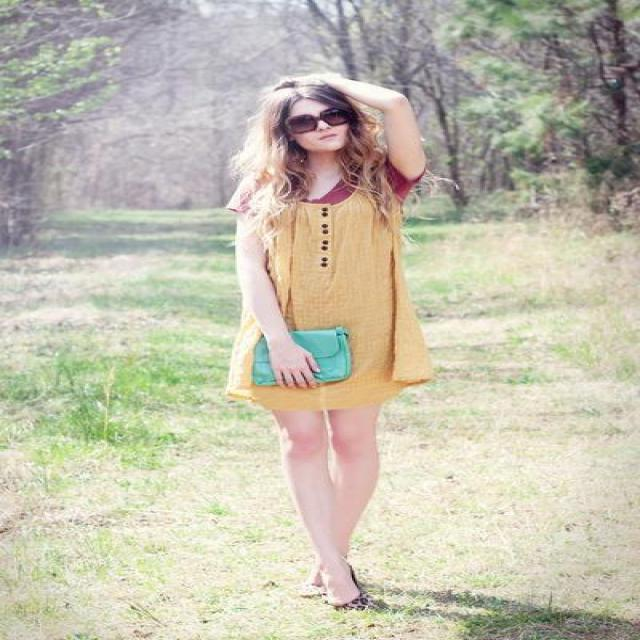bag: (252, 327, 351, 384)
dress: (222, 192, 436, 410)
shirt: (226, 167, 437, 226)
